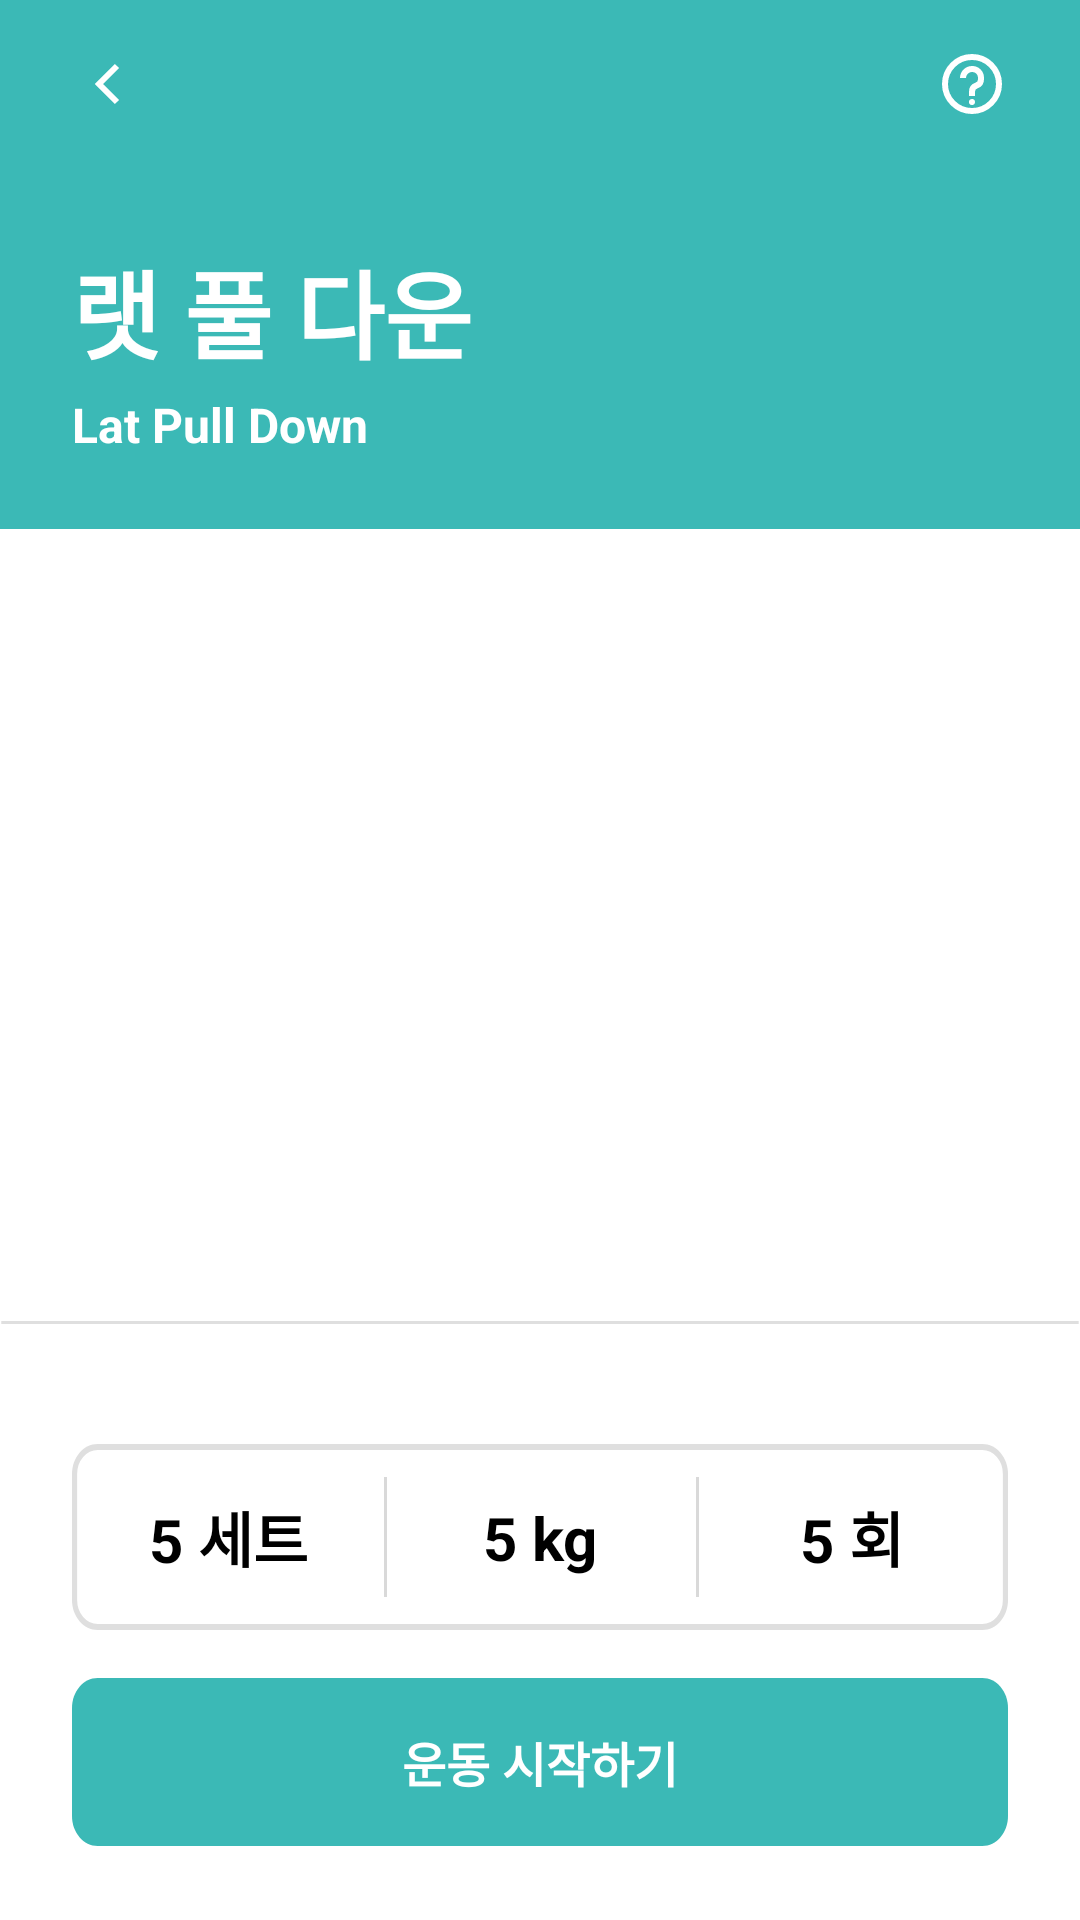

Where icons sit on this 1080×1920 app screen, as (x1, y1, x2, y2):
all back: (95, 64, 119, 104)
